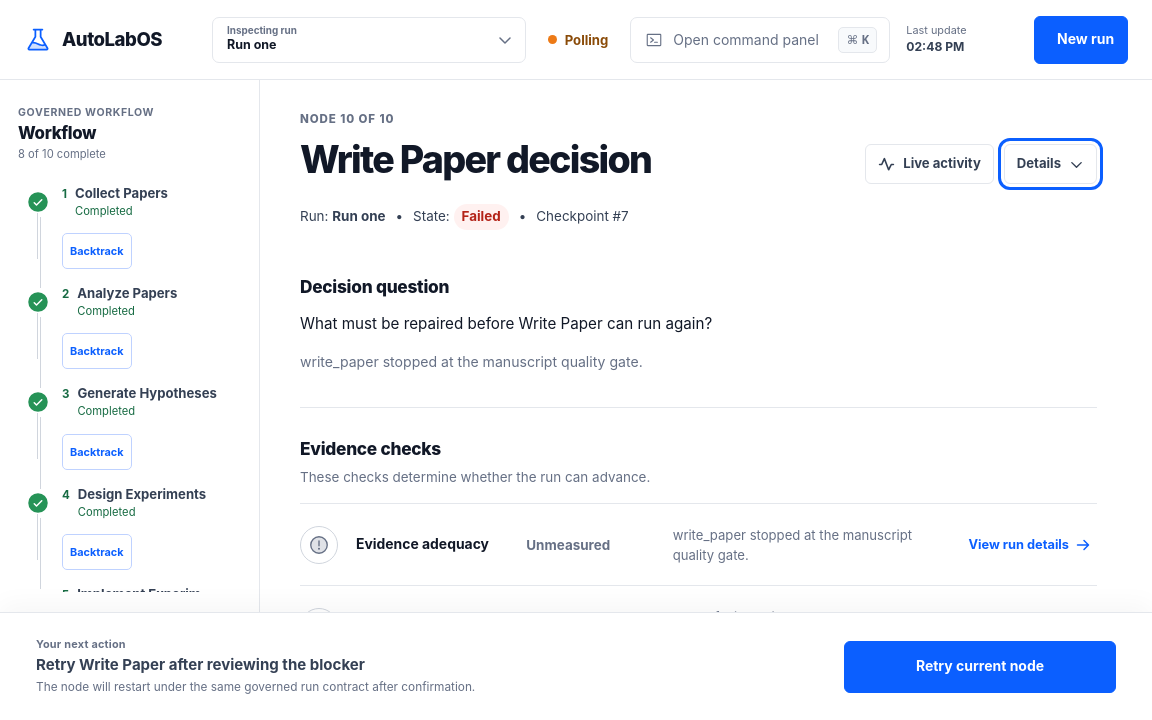
it: App › renders the manuscript quality summary with separated issue groups and artifact links
Click the button "Details" at (1050, 164), box [1004,144,1097,184]
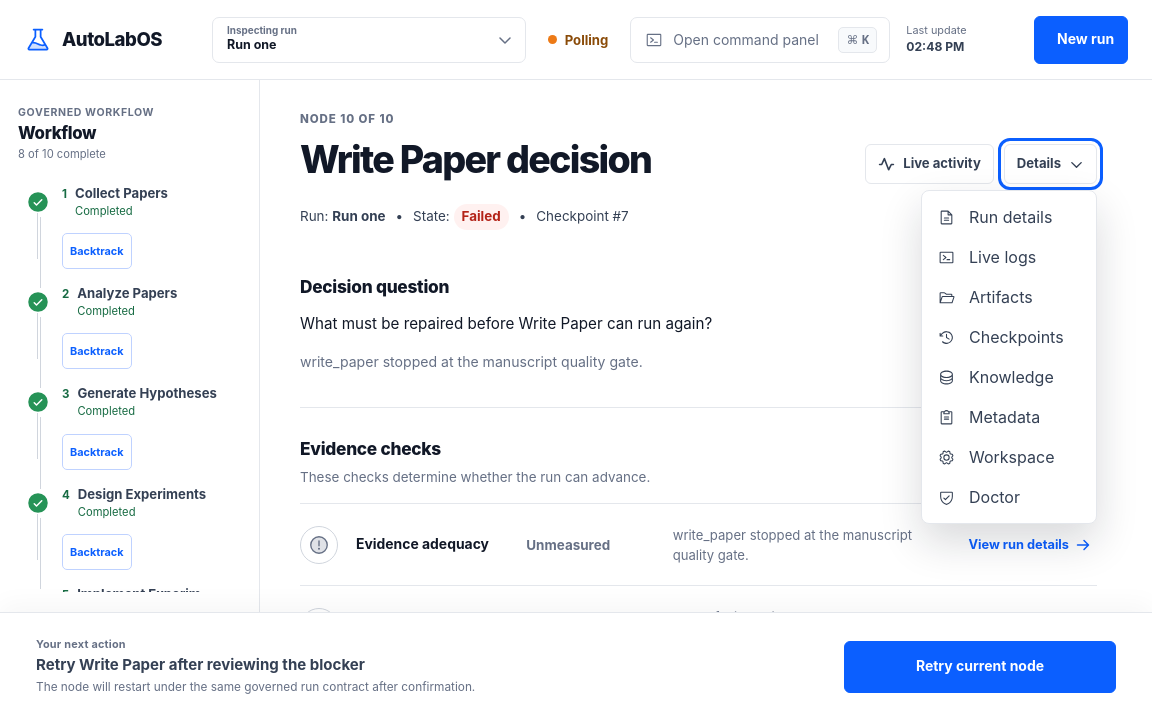
Click the button "Run details" at (1009, 217), box [928,197,1090,237]
(page scrolled)
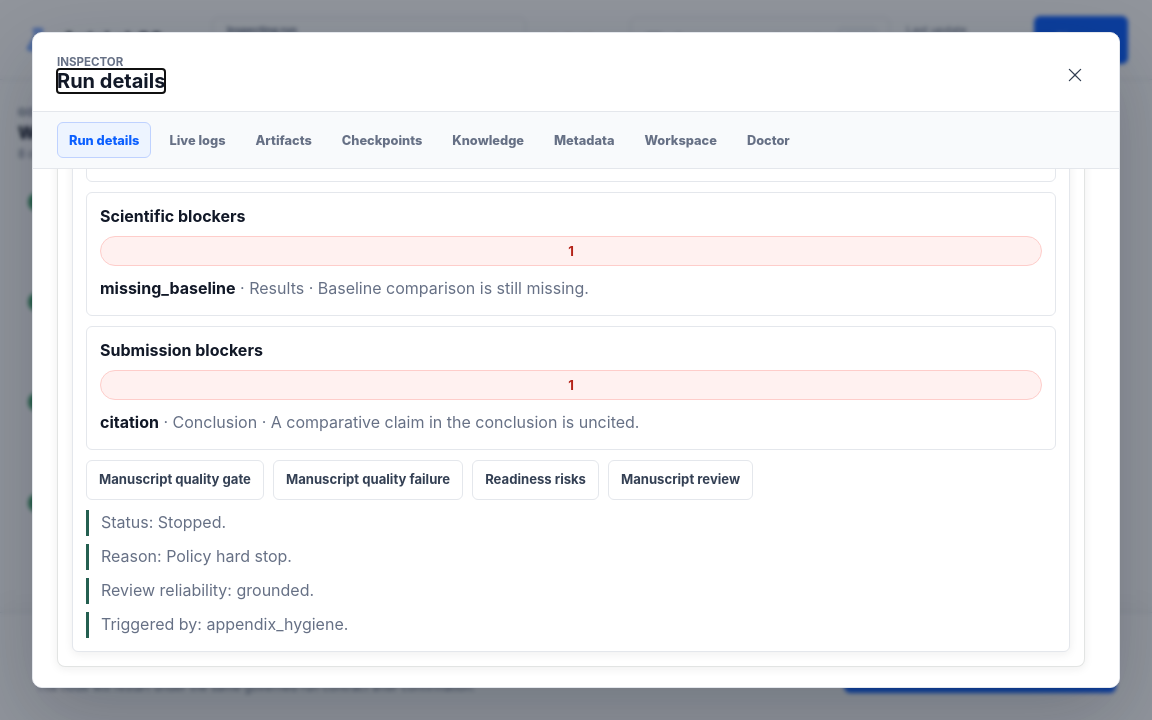
Result: the text "Scientific blockers" is shown at [100,206,246,226]
Result: the text "Submission blockers" is shown at [100,340,263,360]
Result: the button "Manuscript quality gate" is shown at [86,460,264,500]
